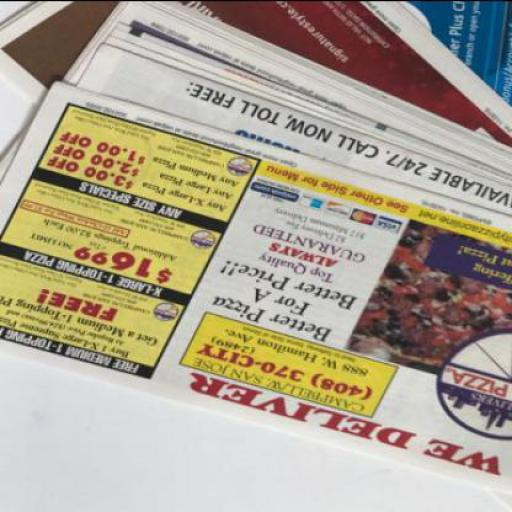paper: (0, 82, 511, 488), (1, 44, 511, 220), (60, 1, 511, 187), (0, 0, 511, 146), (395, 0, 511, 106)
